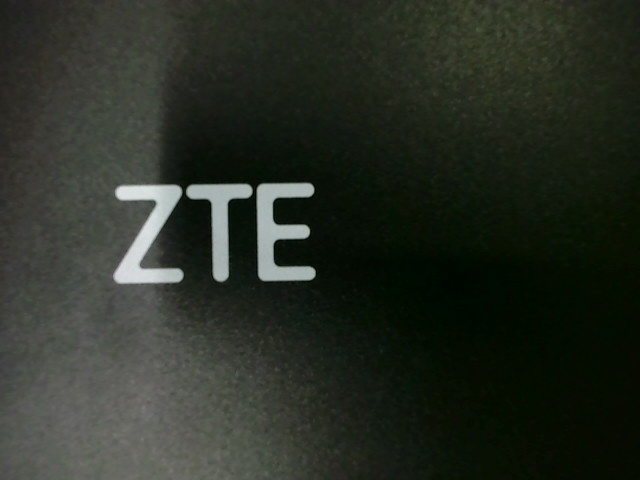AN_ZTE: (102, 176, 332, 294)
